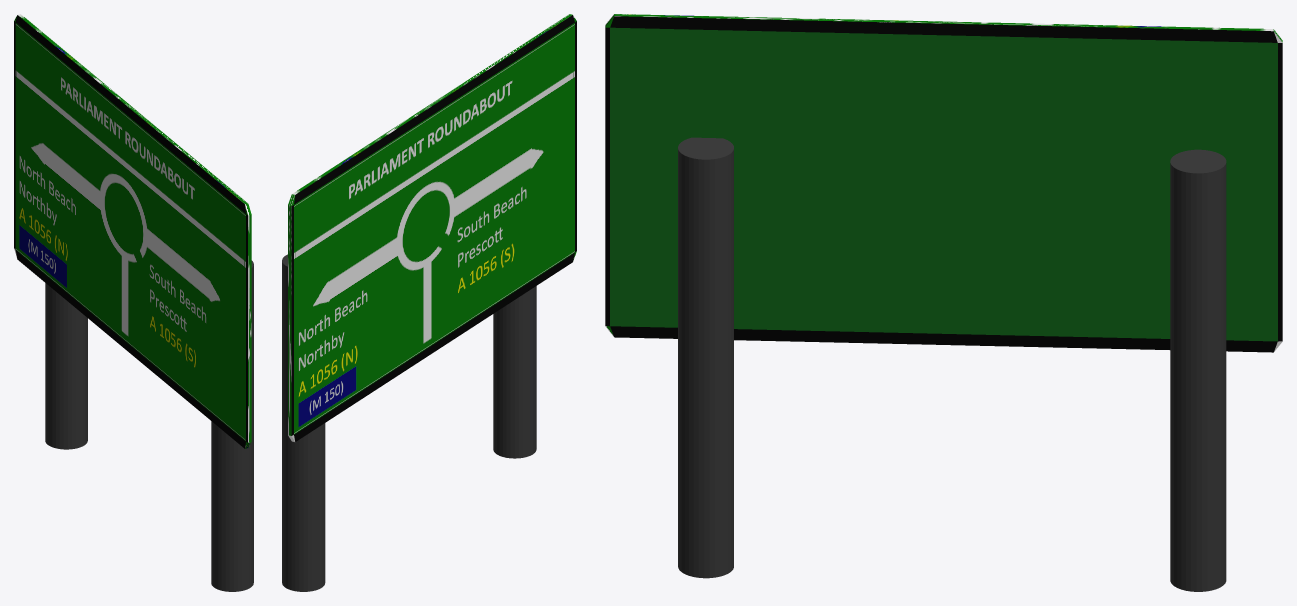
The model's file is RoundaboutSignPRES1.fbx.
The picture shows the model from 3 angles, left to right: view 1: azimuth 30°, elevation 25°; view 2: azimuth 150°, elevation 25°; view 3: azimuth 270°, elevation 25°; orthographic projection. The views are drawn at different scales.
Parts seen in each view (by area): view 1: Cube.030, Cylinder.001, Cylinder.002; view 2: Cube.030, Cylinder.002, Cylinder.001; view 3: Cube.030, Cylinder.002, Cylinder.001.
Boxes of the visible parts, bbox=[...] form: Cube.030: bbox=[14, 14, 251, 448]; Cylinder.001: bbox=[211, 260, 253, 591]; Cylinder.002: bbox=[45, 283, 87, 449]; Cube.030: bbox=[288, 14, 576, 442]; Cylinder.002: bbox=[282, 254, 325, 591]; Cylinder.001: bbox=[493, 286, 536, 458]; Cube.030: bbox=[605, 14, 1282, 352]; Cylinder.002: bbox=[1170, 149, 1226, 591]; Cylinder.001: bbox=[678, 137, 733, 578].
Size of the model in its own units: 108 by 670 by 765.
